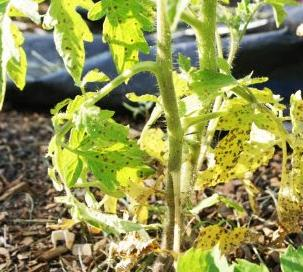Tomato Septoria leaf spot: (50, 109, 158, 198), (194, 108, 278, 197), (270, 99, 303, 247), (34, 0, 91, 83), (91, 0, 153, 68)
